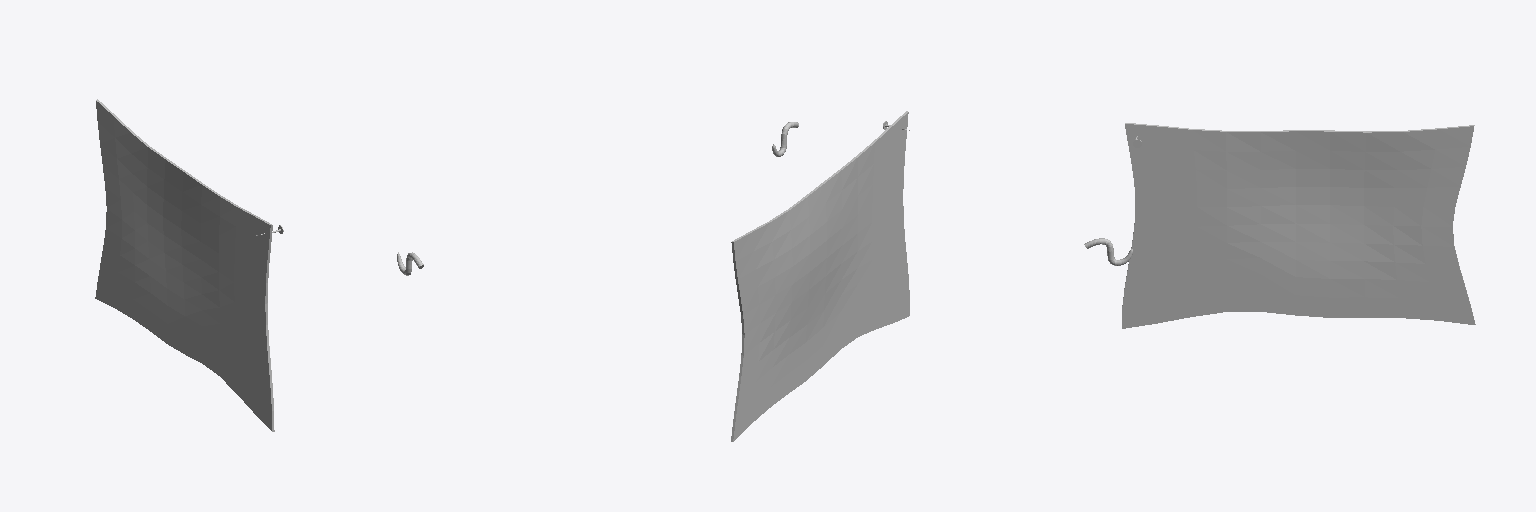
The model's file is cabinetToolsLP.obj.
The picture shows the model from 3 angles: view 1: azimuth 30°, elevation 25°; view 2: azimuth 150°, elevation 25°; view 3: azimuth 270°, elevation 25°; orthographic projection.
Visible parts, largest first — view 1: pPlane25 Diagram; view 2: pPlane25 Diagram; view 3: pPlane25 Diagram.
Boxes of the visible parts, <box> form: pPlane25 Diagram: <box>95,99,274,431</box>; pPlane25 Diagram: <box>731,111,909,441</box>; pPlane25 Diagram: <box>1122,123,1475,328</box>.
Bounding box in the file's own units: 1.12 × 1.54 × 2.65.